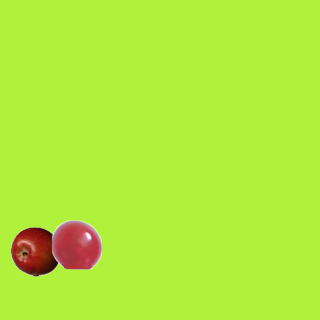Apple Braeburn: (10, 226, 60, 276)
Redcurrant: (51, 219, 101, 269)
